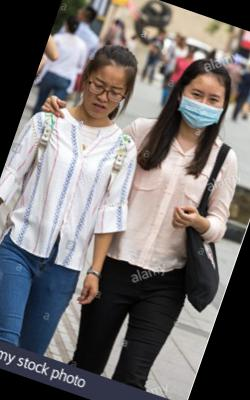with_mask: (172, 81, 230, 136)
without_mask: (74, 71, 129, 126)
